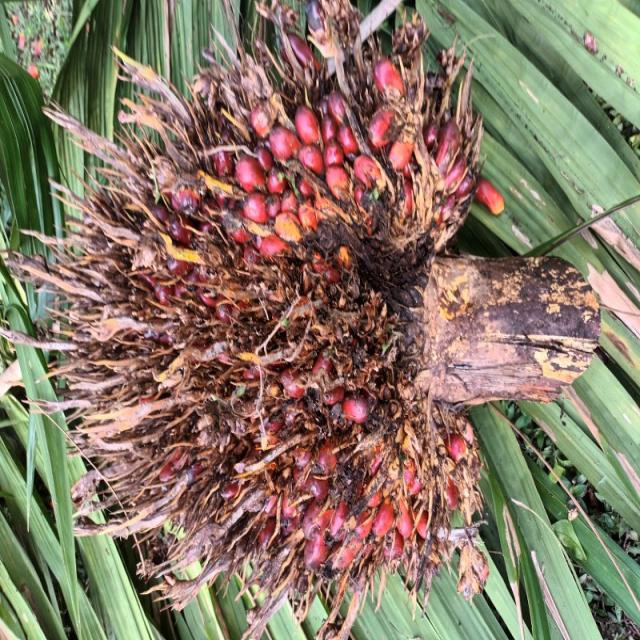fraksi 3: (21, 45, 480, 640)
